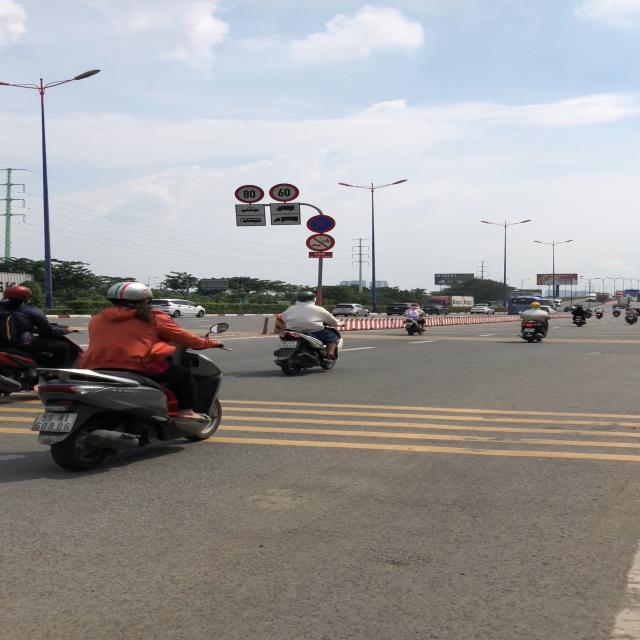Bien bao cam dung xe va do xe: (306, 214, 338, 233)
Bien bao toc do toi da cho phep: (233, 185, 264, 204), (270, 183, 299, 201)
